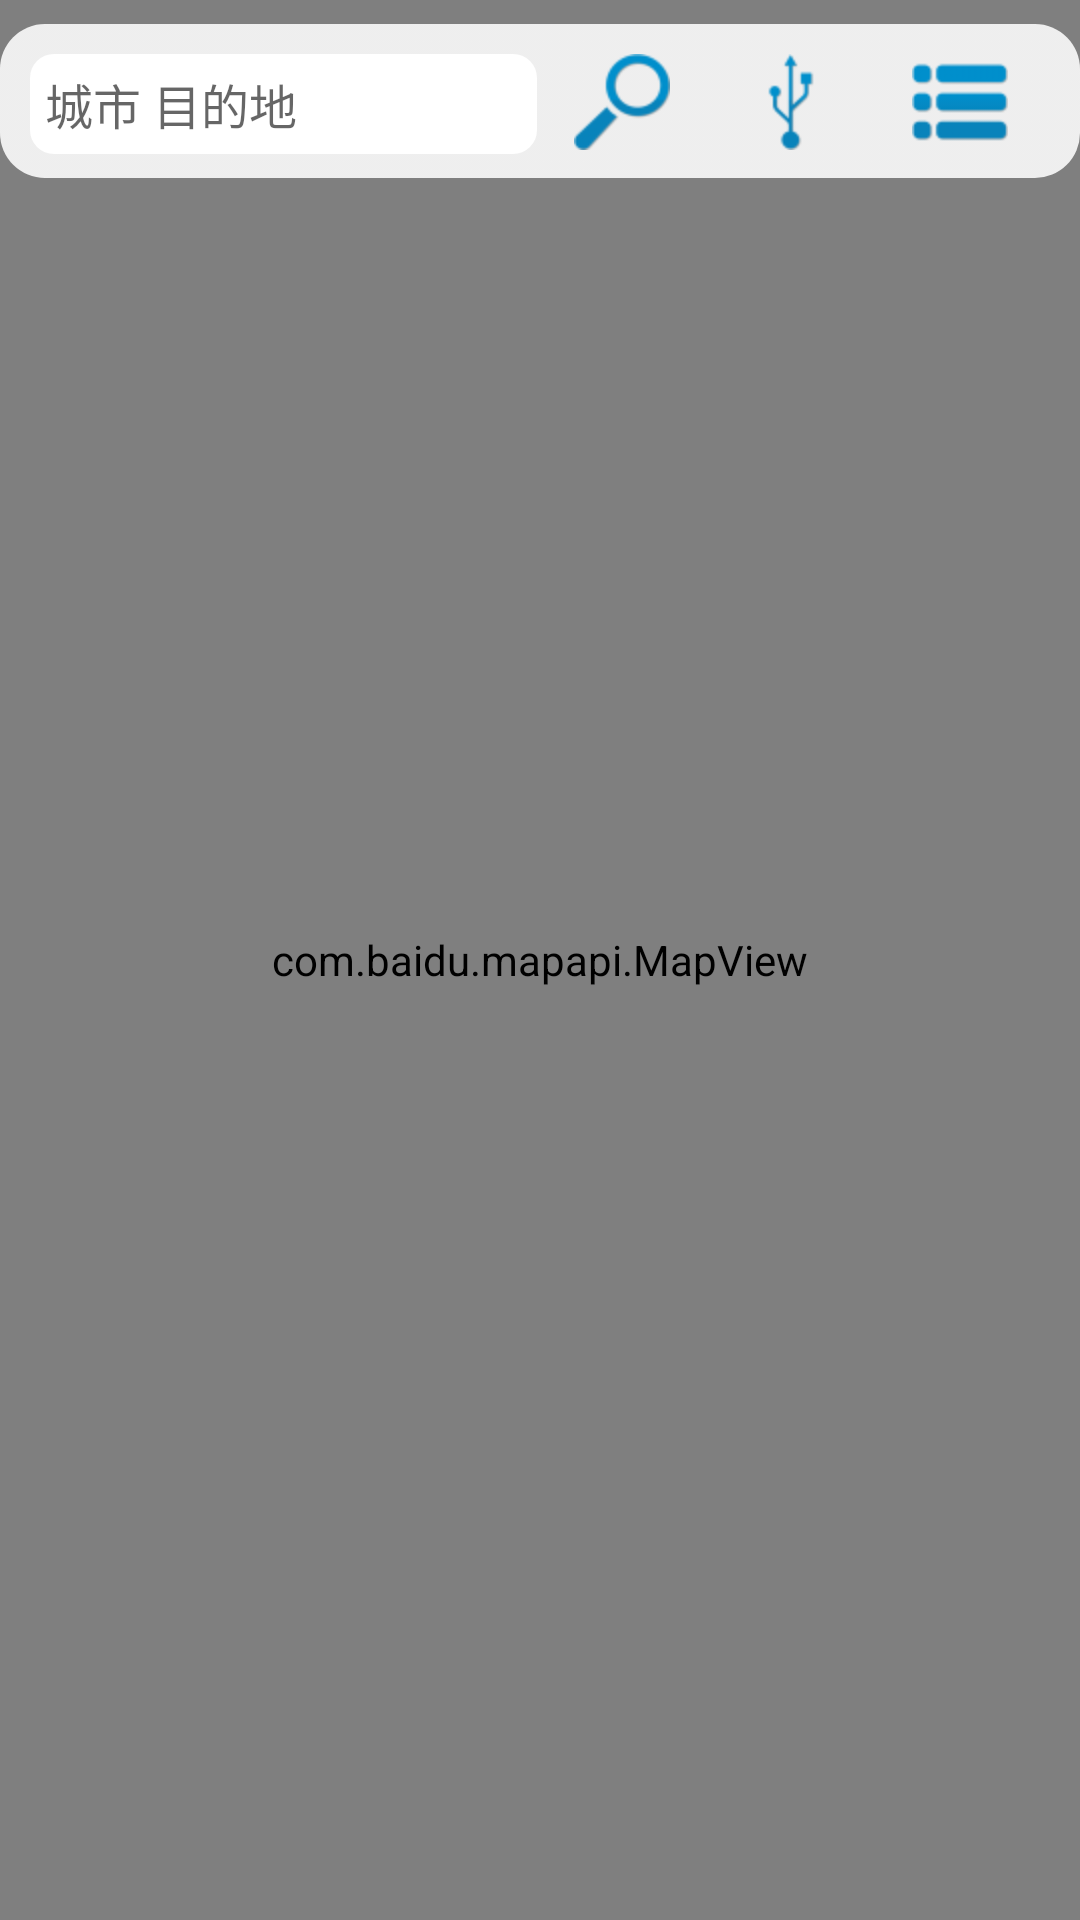

Screen size 1080px x 1920px. Icon name, then its box in pixels as (x1, y1, x2, y2):
map list: (912, 63, 1008, 141)
map search: (574, 54, 670, 150)
